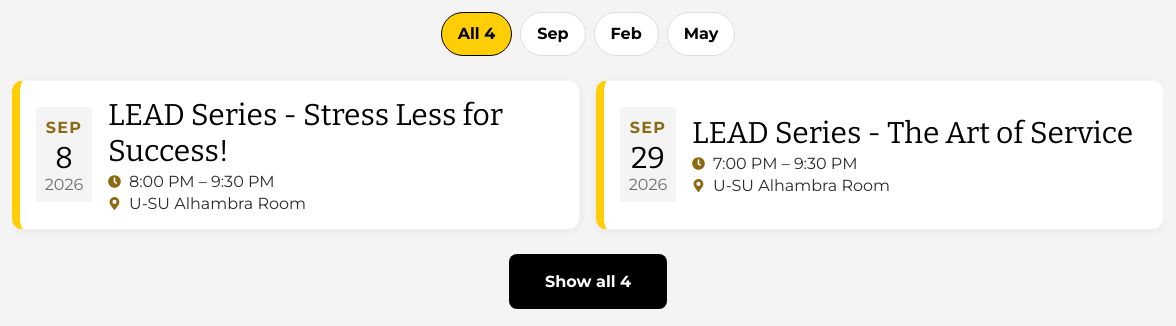
ImagelessEventsGrid › with a month filter › retires the toggle when the chosen month fits under the cap
Step 1. Click the button with aria-label "February 2027" → (626, 34), box x1=594 y1=12 x2=659 y2=56
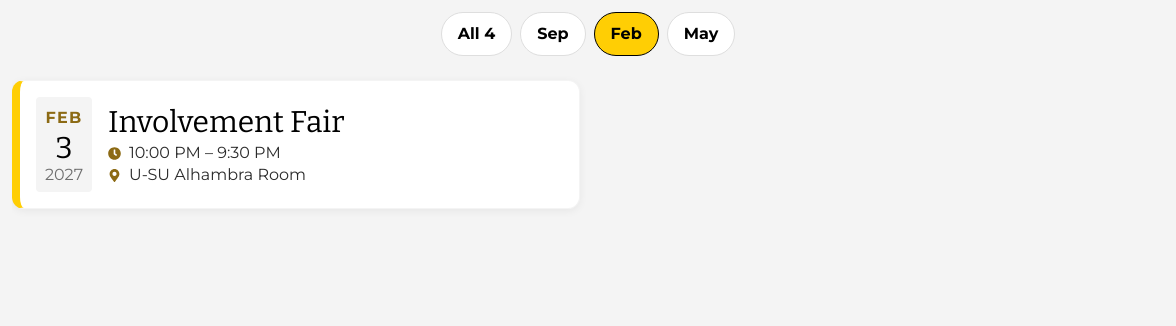
Expected: the button "Show all" is gone
Expected: the button "Involvement Fair" is shown, x1=12 y1=80 x2=580 y2=209
